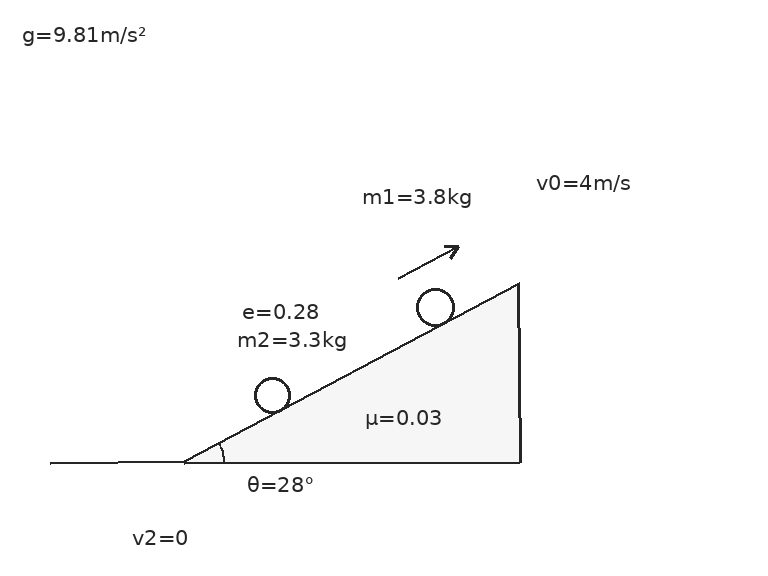ball: (414, 286, 456, 328), (252, 375, 292, 415)
ramp: (182, 282, 521, 464)
